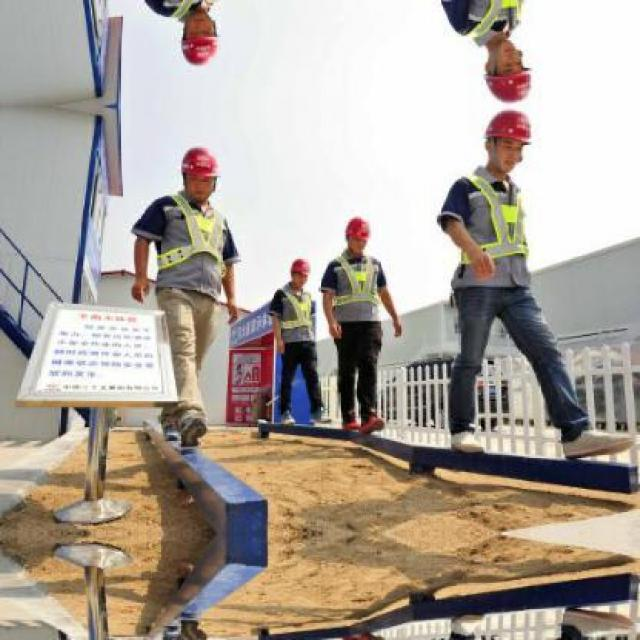hat: (480, 105, 538, 152), (175, 145, 223, 184), (340, 213, 373, 242), (289, 256, 310, 281)
